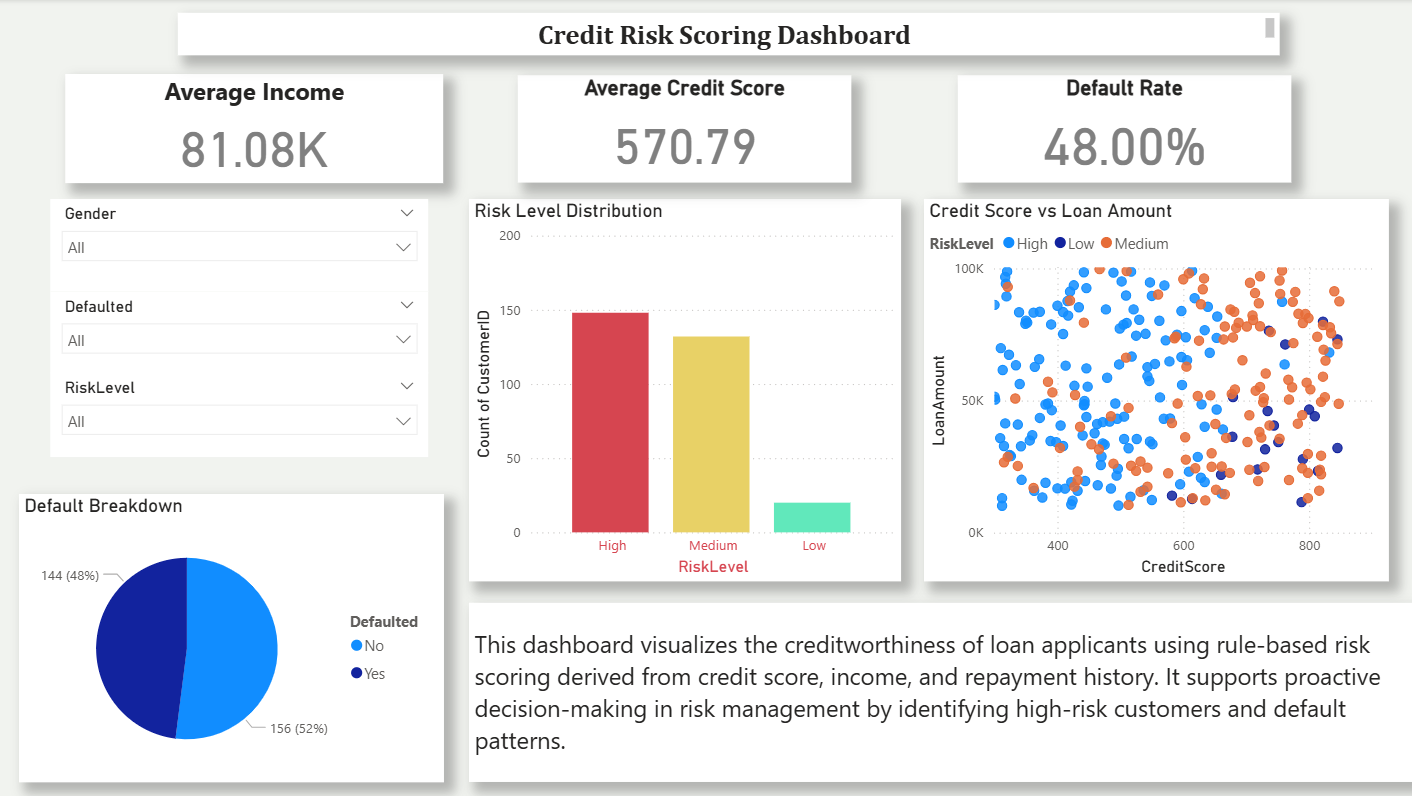

This screenshot's page, from the dashboard's own definition file:
{"tool":"powerbi","page":{"name":"Credit risk scoring dashboard","canvas":[1280,720],"ordinal":0},"visuals":[{"type":"clusteredColumnChart","title":" Risk Level Distribution","fields":{"Category":["cleaned_credit_data.RiskLevel"],"Y":["CountNonNull(cleaned_credit_data.CustomerID)"]},"box":[427.9,180.4,389.4,344.6],"z":0},{"type":"card","title":"Average Income","fields":{"Values":["cleaned_credit_data.AvgIncome"]},"box":[64.7,67.2,340.8,98.3],"z":1000},{"type":"card","title":"Average Credit Score","fields":{"Values":["cleaned_credit_data.AvgCreditScore"]},"box":[472.7,68.4,301,97],"z":2000},{"type":"card","title":"Default Rate","fields":{"Values":["cleaned_credit_data.DefaultRate"]},"box":[869.5,68.4,301,97],"z":3000},{"type":"pieChart","title":" Default Breakdown","fields":{"Y":["CountNonNull(cleaned_credit_data.CustomerID)"],"Category":["cleaned_credit_data.Defaulted"]},"box":[22.4,446.6,383.1,260],"z":4000},{"type":"scatterChart","title":"Credit Score vs Loan Amount","fields":{"Series":["cleaned_credit_data.RiskLevel"],"X":["cleaned_credit_data.CreditScore"],"Y":["cleaned_credit_data.LoanAmount"]},"box":[838.4,180.4,419.2,344.6],"z":5000},{"type":"textbox","box":[427.9,544.9,852.1,161.7],"z":6000},{"type":"slicer","fields":{"Values":["cleaned_credit_data.Gender"]},"box":[51,180.4,340.8,83.3],"z":7000},{"type":"slicer","fields":{"Values":["cleaned_credit_data.RiskLevel"]},"box":[51,337.1,340.8,75.9],"z":8000},{"type":"slicer","fields":{"Values":["cleaned_credit_data.Defaulted"]},"box":[51,263.7,340.8,73.4],"z":9000},{"type":"textbox","box":[165.4,12.4,993.9,38.6],"z":9001}]}

Visuals, with their boxes in screenshot pixels (x1, y1, x2, y2), scaled from the page's 1280x720 canvas onto the 1412x796 screenshot:
" Risk Level Distribution" clusteredColumnChart: region(472, 199, 902, 580)
"Average Income" card: region(71, 74, 447, 183)
"Average Credit Score" card: region(521, 76, 853, 183)
"Default Rate" card: region(959, 76, 1291, 183)
" Default Breakdown" pieChart: region(25, 494, 447, 781)
"Credit Score vs Loan Amount" scatterChart: region(925, 199, 1387, 580)
textbox: region(472, 602, 1411, 781)
slicer - cleaned_credit_data.Gender: region(56, 199, 432, 292)
slicer - cleaned_credit_data.RiskLevel: region(56, 373, 432, 457)
slicer - cleaned_credit_data.Defaulted: region(56, 292, 432, 373)
textbox: region(182, 14, 1279, 56)
